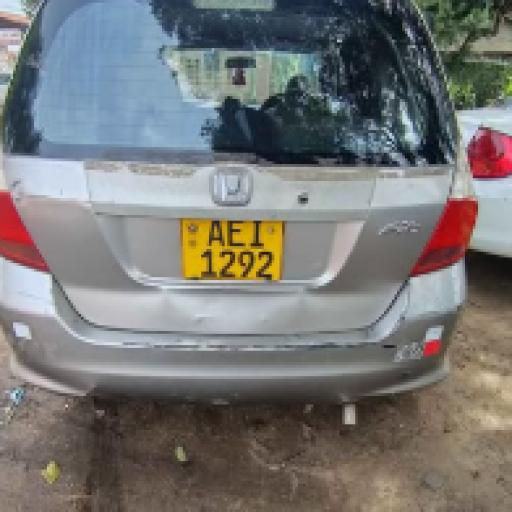number-plates: (179, 214, 284, 283)
